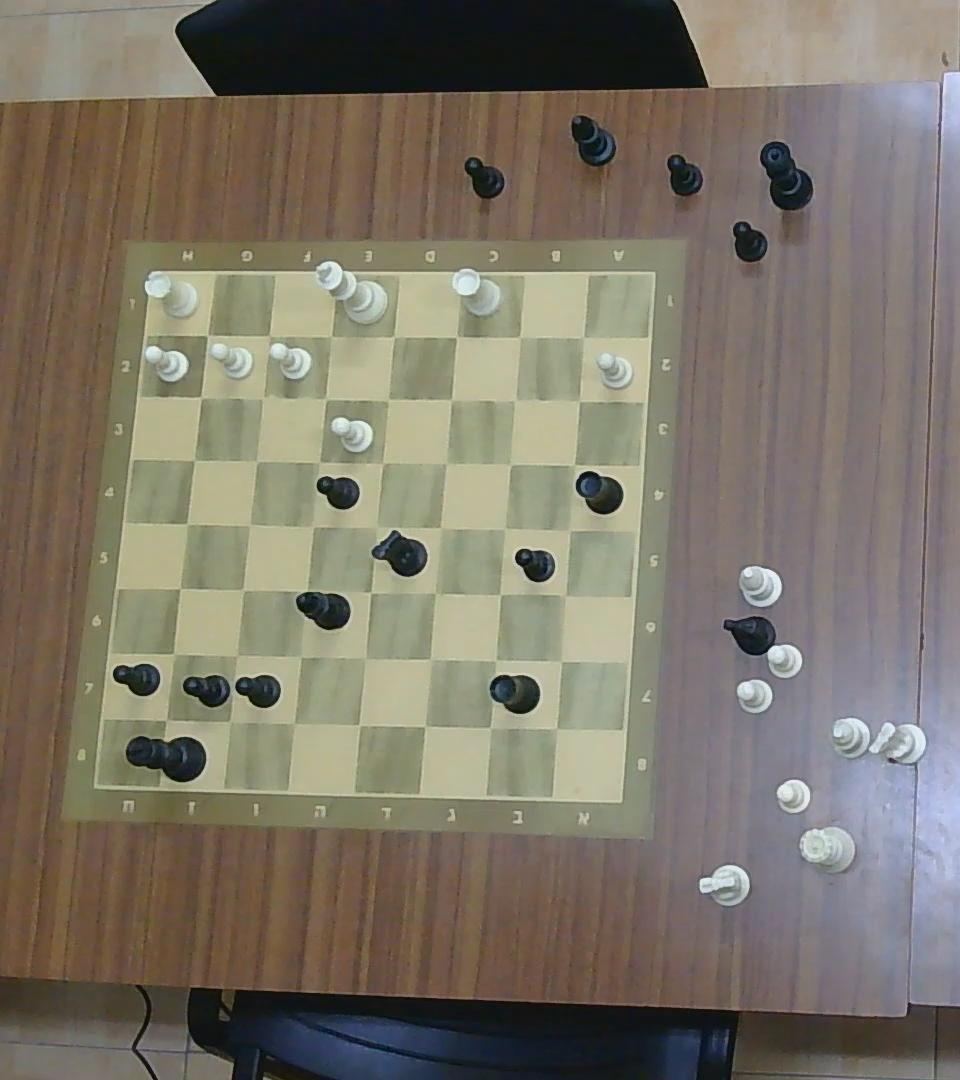xcorner: (234, 513, 264, 538), (174, 512, 202, 537), (166, 578, 192, 602), (438, 391, 466, 412), (181, 445, 203, 470), (249, 449, 271, 473), (294, 645, 316, 669), (312, 388, 338, 408), (304, 451, 326, 474), (571, 327, 595, 348), (483, 717, 504, 741), (568, 391, 594, 410), (436, 453, 457, 475), (563, 453, 584, 475), (561, 520, 582, 542), (494, 519, 515, 540), (192, 386, 212, 408), (372, 452, 394, 472), (299, 514, 321, 534), (158, 711, 181, 730), (426, 582, 444, 606), (416, 717, 436, 738), (553, 652, 575, 671), (430, 515, 448, 538), (488, 584, 511, 602), (549, 720, 569, 740), (198, 324, 217, 345), (504, 391, 525, 410), (383, 329, 405, 347), (499, 454, 521, 472), (506, 328, 529, 345), (321, 327, 341, 346), (366, 519, 386, 538), (259, 327, 280, 345), (362, 582, 380, 603), (351, 713, 369, 734), (252, 388, 271, 407), (377, 390, 397, 408), (355, 650, 375, 668), (487, 651, 507, 669), (165, 646, 184, 664), (447, 327, 464, 347), (228, 646, 246, 664), (555, 586, 574, 603), (235, 580, 252, 598), (421, 650, 438, 668), (284, 712, 299, 731), (299, 583, 315, 600), (224, 713, 241, 729)
